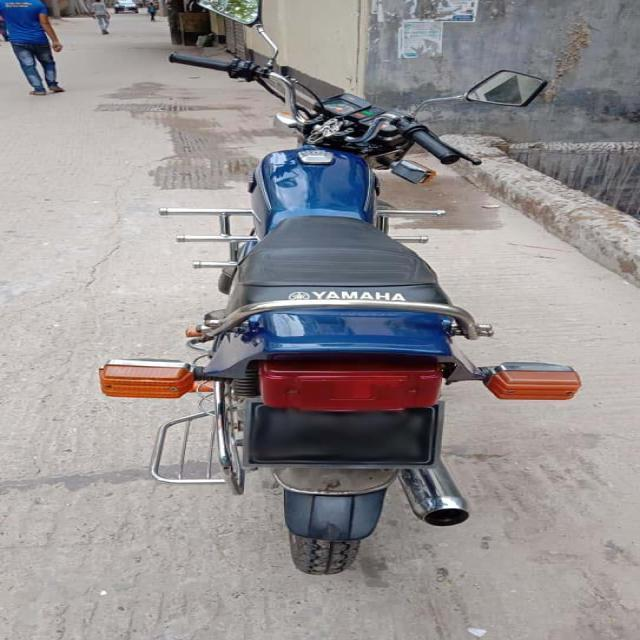Motorbike: (100, 24, 584, 578)
